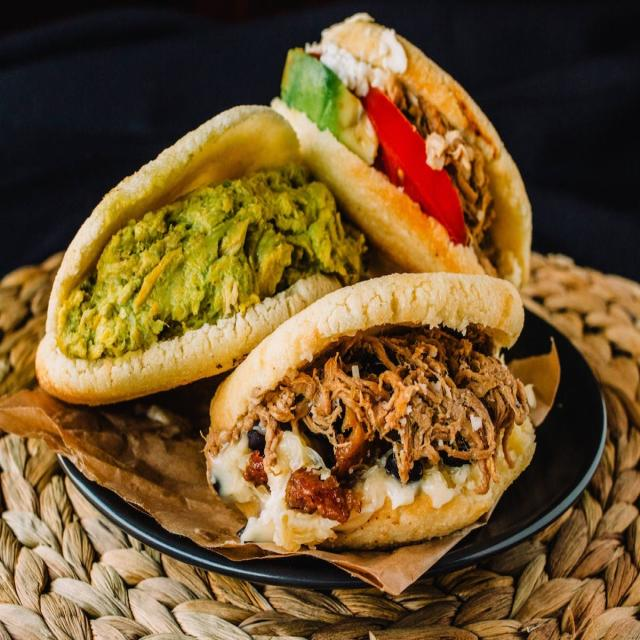aguacate: (114, 222, 298, 289)
carne de res: (285, 366, 506, 476)
